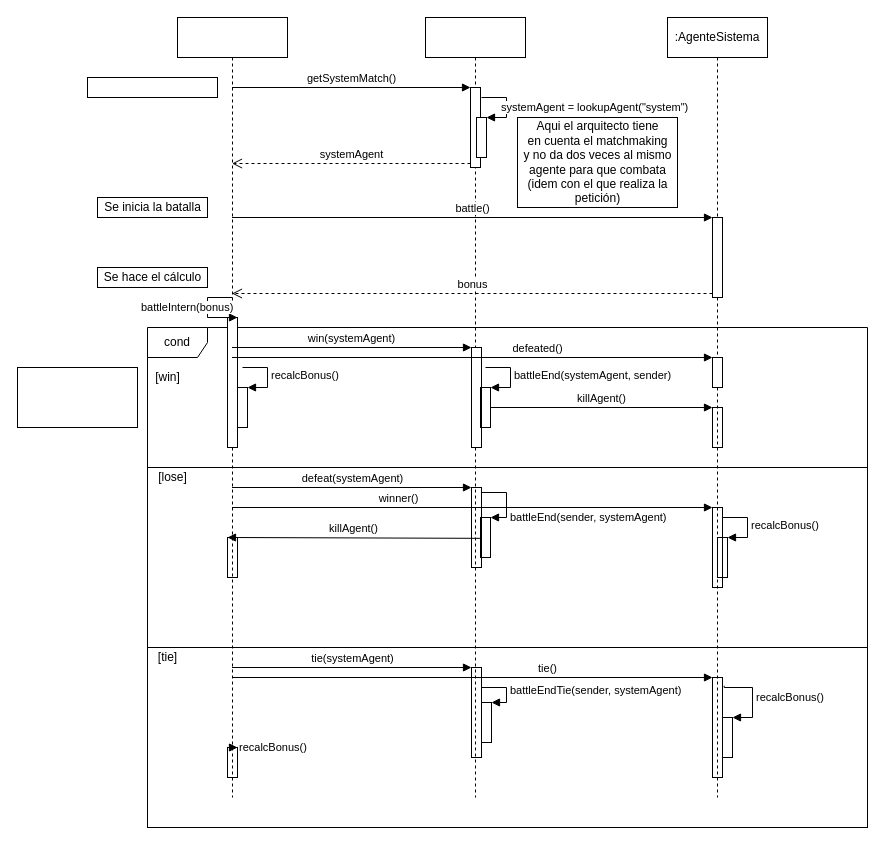
Image size: 885x845. Some labels were removed from this diagram. Each missing label, with the centre of its shape:
:AgenteArquitecto: (475,407)
:AgenteResistencia: (232,407)
Se busca el oponente: (152,87)
Se comunica al arquitecto el agente que ha perdido para eliminarlo: (77,397)
